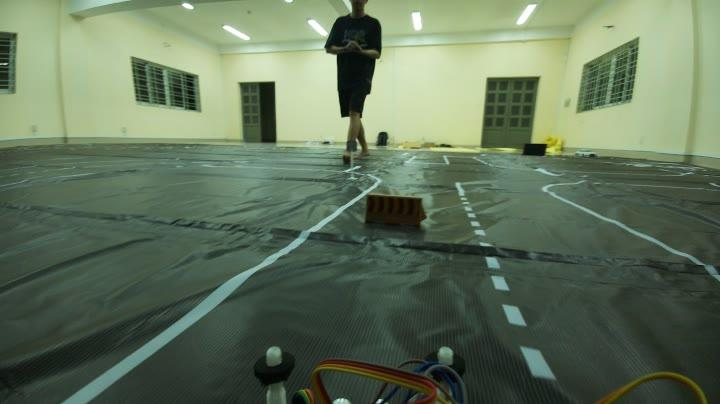roadblock: (359, 186, 434, 238)
